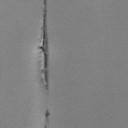slag inclusion: (39, 0, 48, 90), (45, 110, 50, 119)
